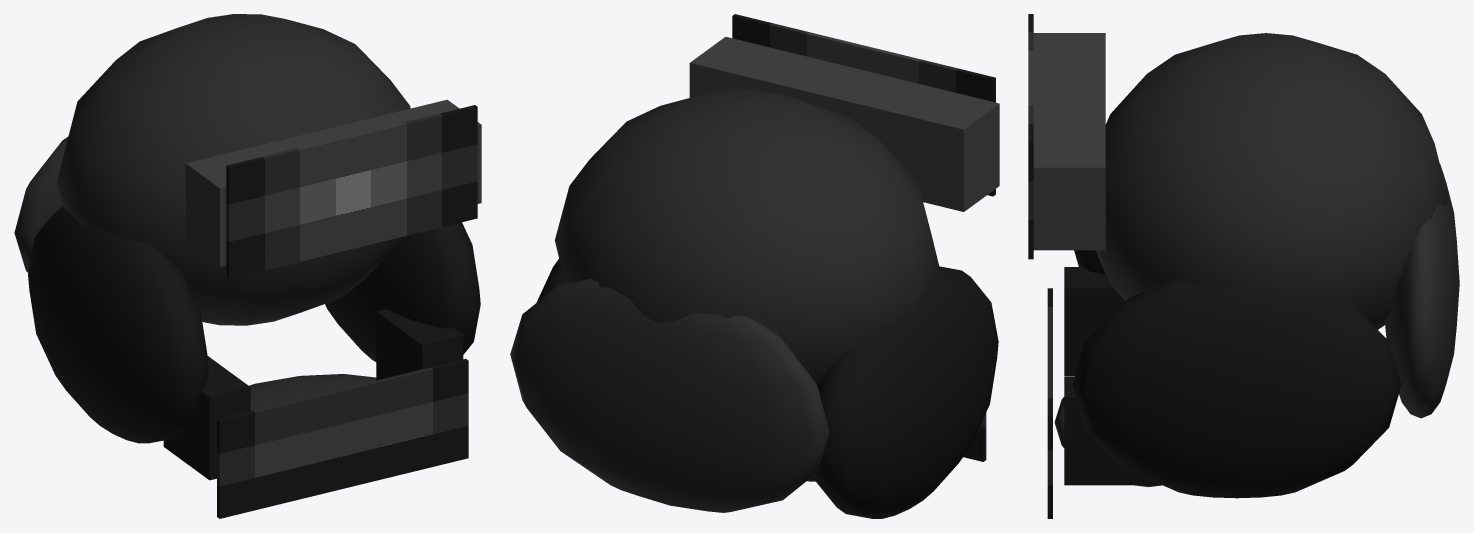
File: CMU3DLooseCMBHelmet.glb
3 renders of one model, left to right at view 1: azimuth 30°, elevation 25°; view 2: azimuth 150°, elevation 25°; view 3: azimuth 270°, elevation 25°, orthographic. The views are drawn at different scales.
Parts seen in each view (by area): view 1: rounded armored crown, left cheek shell, original crown and brow highlights, original lower chin highlights, right cheek shell, reinforced brow plate, left chin attachment, right chin attachment, rear neck shell, lower chin rim; view 2: rounded armored crown, rear neck shell, left cheek shell, reinforced brow plate, original crown and brow highlights, original lower chin highlights; view 3: rounded armored crown, right cheek shell, reinforced brow plate, rear neck shell, right chin attachment, left chin attachment, original crown and brow highlights, original lower chin highlights, left cheek shell.
Part boxes in pixels (<box>): rounded armored crown: <box>57,14,410,325</box>; left cheek shell: <box>28,206,208,443</box>; original crown and brow highlights: <box>226,105,477,278</box>; original lower chin highlights: <box>217,359,468,518</box>; right cheek shell: <box>325,222,480,361</box>; reinforced brow plate: <box>185,99,481,266</box>; left chin attachment: <box>163,356,250,480</box>; right chin attachment: <box>376,309,463,380</box>; rear neck shell: <box>14,137,67,272</box>; lower chin rim: <box>249,374,376,410</box>; rounded armored crown: <box>554,90,939,385</box>; rear neck shell: <box>510,279,829,512</box>; left cheek shell: <box>815,266,998,518</box>; reinforced brow plate: <box>689,36,999,211</box>; original crown and brow highlights: <box>732,14,995,196</box>; original lower chin highlights: <box>963,412,986,461</box>; rounded armored crown: <box>1096,33,1448,329</box>; right cheek shell: <box>1072,279,1401,498</box>; reinforced brow plate: <box>1033,33,1105,250</box>; rear neck shell: <box>1385,164,1459,418</box>; right chin attachment: <box>1064,376,1160,485</box>; left chin attachment: <box>1064,267,1124,375</box>; original crown and brow highlights: <box>1028,14,1033,259</box>; original lower chin highlights: <box>1047,288,1052,518</box>; left cheek shell: <box>1074,250,1105,274</box>.
Bounding box in the file's own units: 0.323 × 0.32 × 0.312.
Materials: 5 (2 with a texture image).
